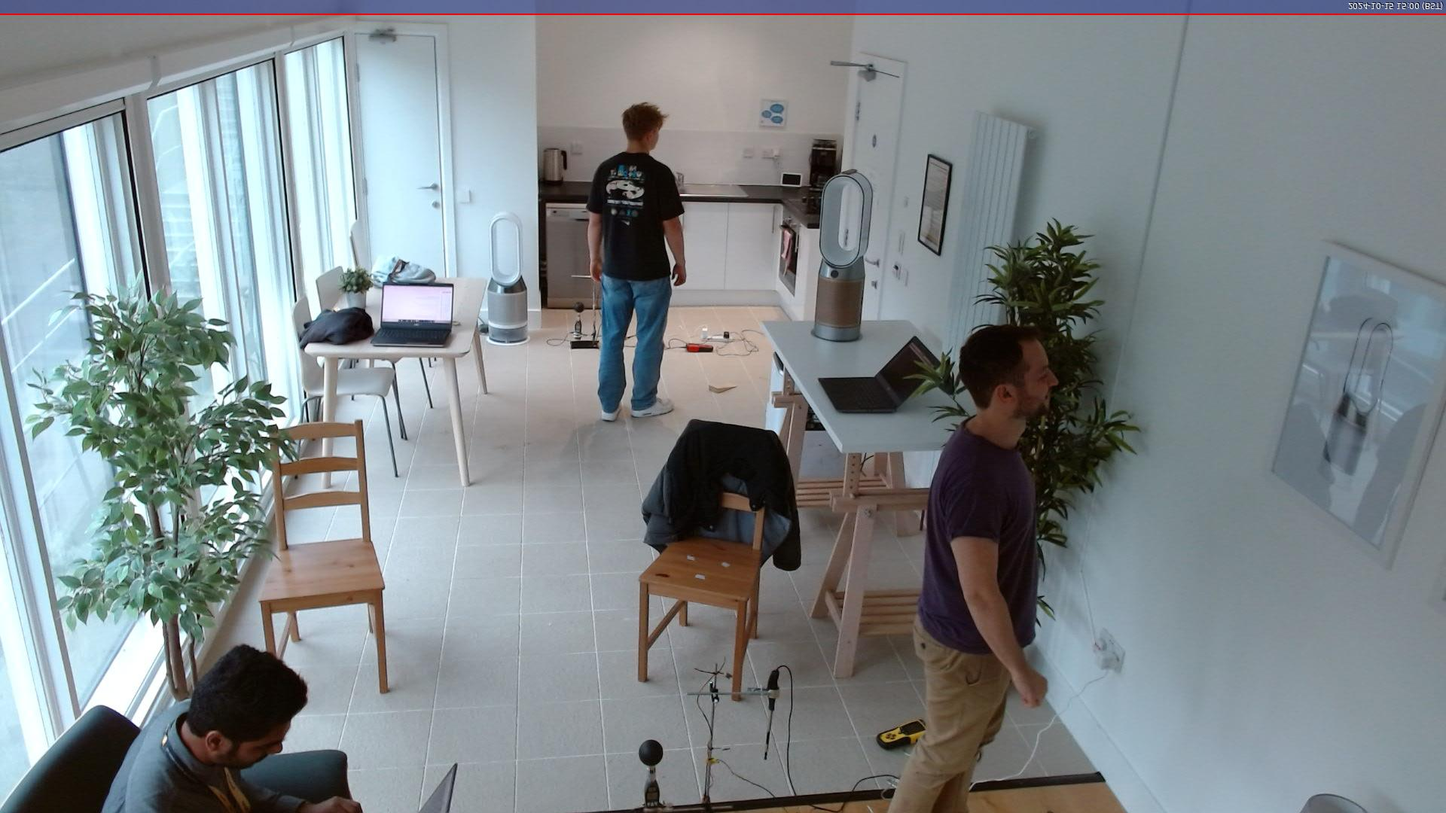long sleeve shirt: (122, 704, 315, 812)
short sleeve shirt: (916, 414, 1046, 658), (586, 146, 686, 284)
trousers: (885, 615, 1036, 813), (594, 268, 674, 412)
